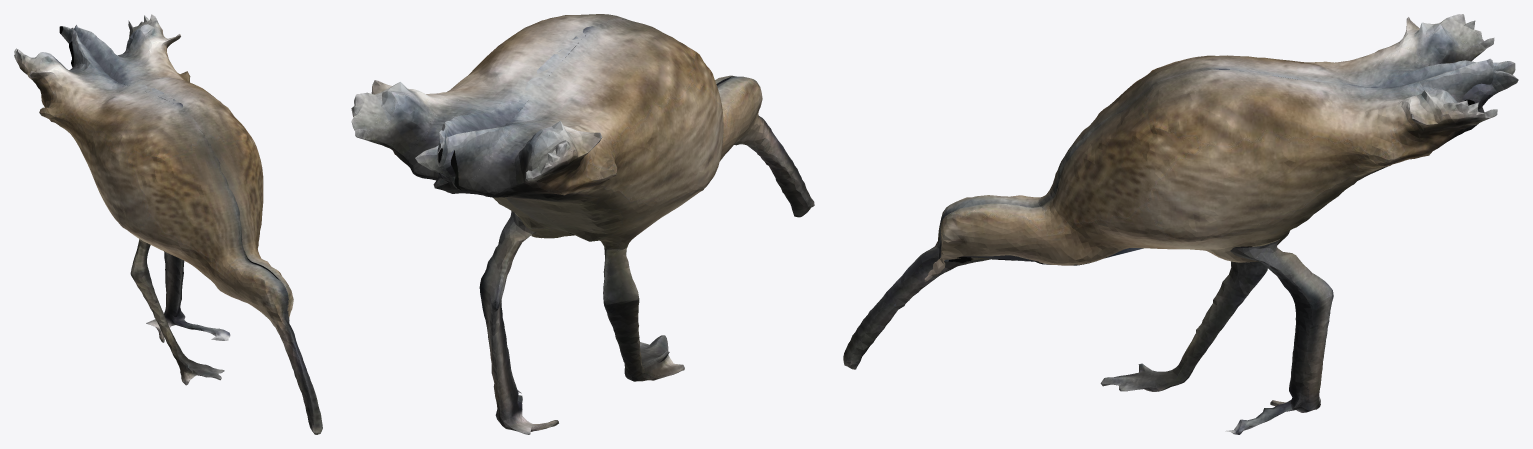
The picture shows the model from 3 angles, left to right: view 1: azimuth 30°, elevation 25°; view 2: azimuth 150°, elevation 25°; view 3: azimuth 270°, elevation 25°; orthographic projection. The views are drawn at different scales.
Parts seen in each view (by area): view 1: Mesh_0.001; view 2: Mesh_0.001; view 3: Mesh_0.001.
Boxes of the visible parts, left/top/right/bottom form: Mesh_0.001: left=14, top=14, right=322, bottom=434; Mesh_0.001: left=351, top=14, right=814, bottom=434; Mesh_0.001: left=843, top=14, right=1518, bottom=434.
Bounding box in the file's own units: 0.2225 × 0.3638 × 0.644.
Materials: 1 (1 with a texture image).
